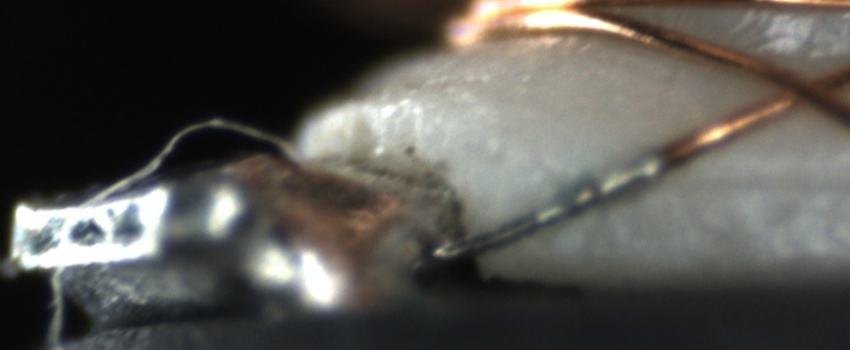CL: (757, 57, 844, 120)
DL: (636, 149, 850, 213)
TS: (429, 152, 665, 262)
TTCW: (434, 112, 707, 261)
